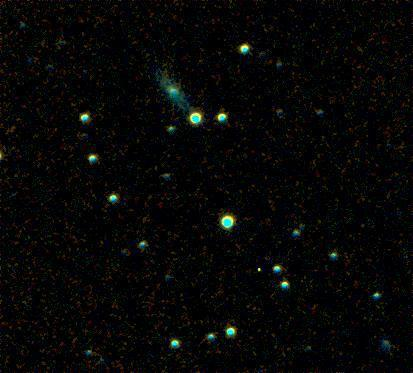star: (244, 256, 274, 286)
